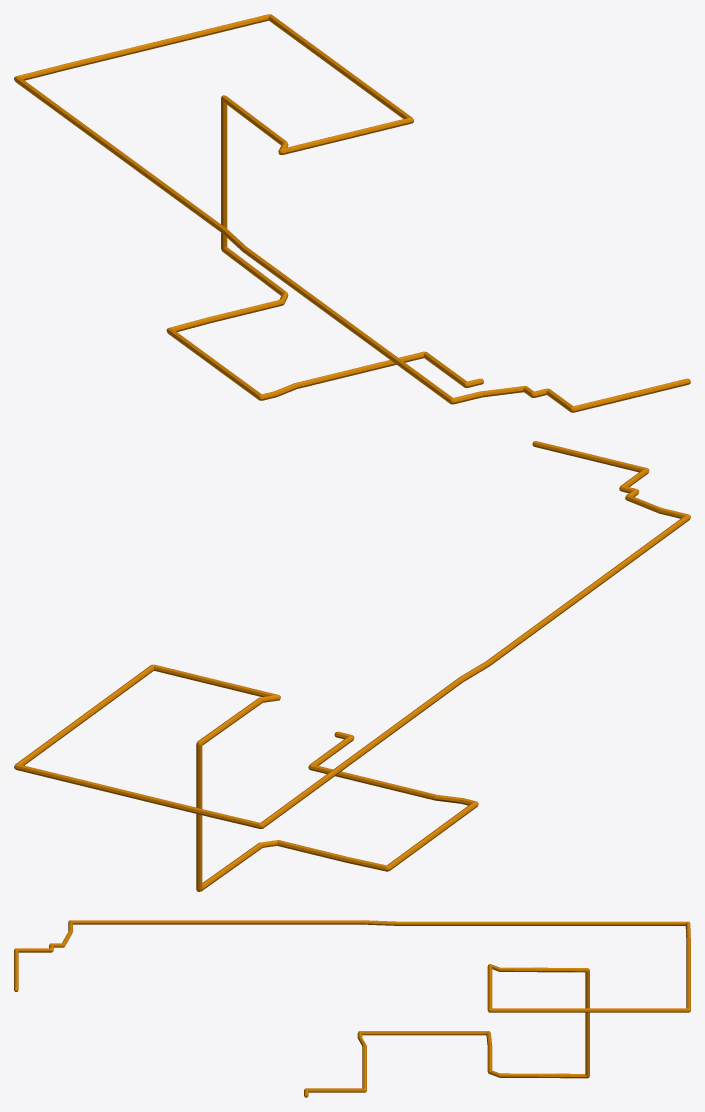
The picture shows the model from 3 angles, top to bottom: view 1: azimuth 30°, elevation 25°; view 2: azimuth 150°, elevation 25°; view 3: azimuth 270°, elevation 25°; orthographic projection. The views are drawn at different scales.
Size of the model in its own units: 912 by 520 by 2898.
